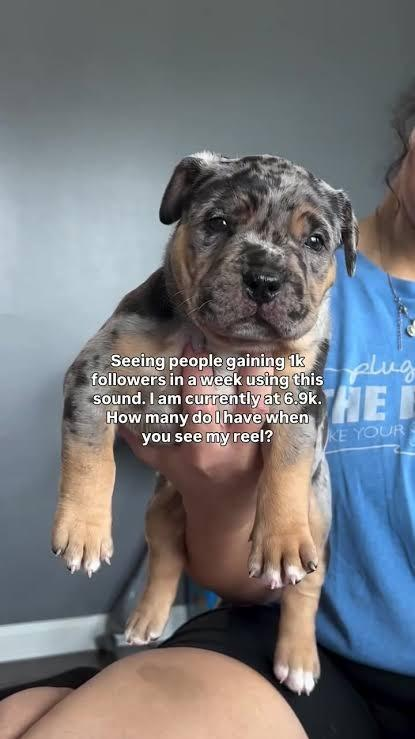non-dog: (2, 99, 414, 739)
puppy-dog: (50, 147, 360, 698)
